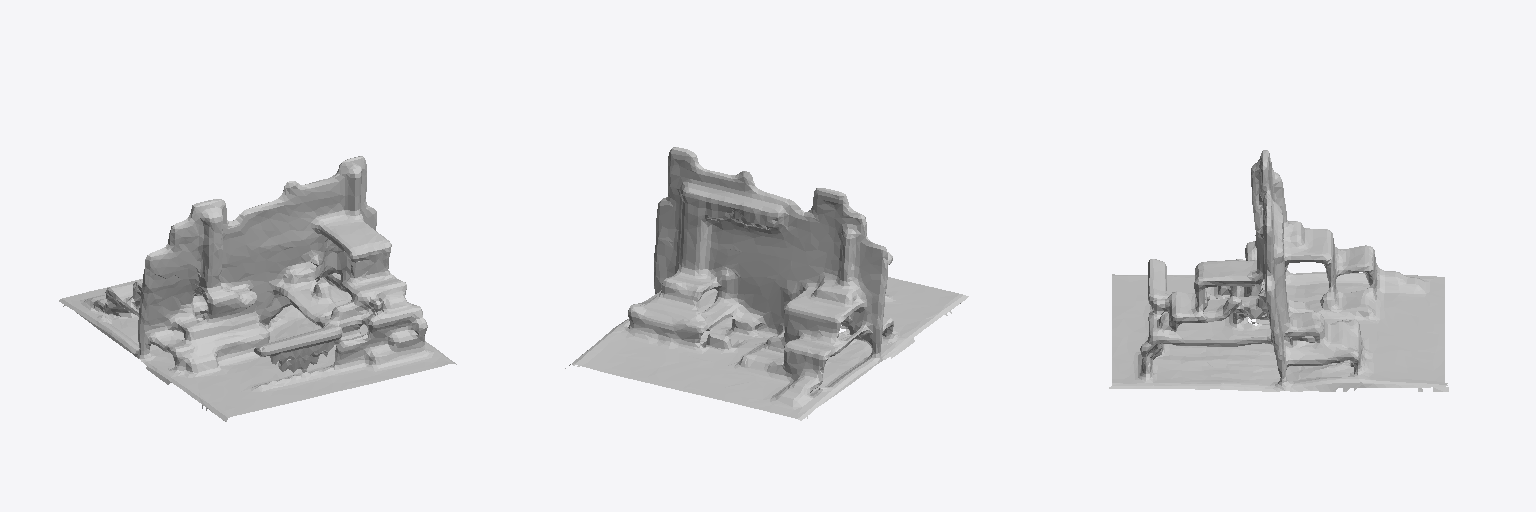
The model's file is carlos.obj.
3 views of the same model, side by side, from view 1: azimuth 30°, elevation 25°; view 2: azimuth 150°, elevation 25°; view 3: azimuth 270°, elevation 25° (orthographic).
Visible parts, largest first — view 1: Carlos_Model.012; view 2: Carlos_Model.012; view 3: Carlos_Model.012.
Part boxes in pixels (x1,y1,x2,y2): Carlos_Model.012: (59, 156, 456, 421); Carlos_Model.012: (565, 147, 968, 420); Carlos_Model.012: (1109, 150, 1448, 391).
Bounding box in the file's own units: 0.5615 × 0.3681 × 0.7111.